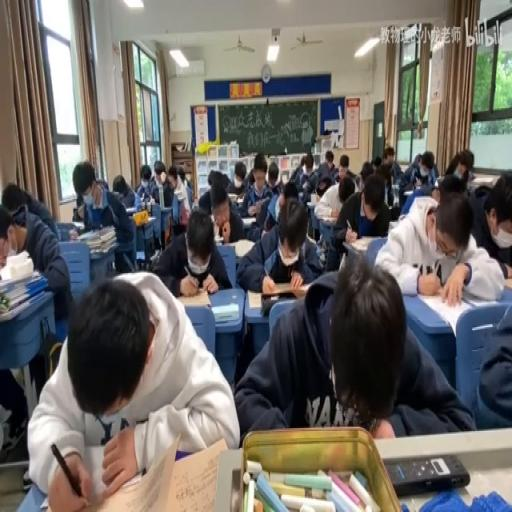calculator: (412, 284, 498, 334), (246, 284, 308, 310), (179, 286, 211, 307), (210, 301, 238, 323), (232, 236, 255, 258), (346, 234, 372, 252), (462, 290, 489, 307), (266, 192, 279, 223), (131, 212, 157, 227), (470, 174, 496, 188), (90, 244, 115, 258), (76, 228, 98, 240), (251, 193, 267, 209), (319, 213, 338, 225), (317, 245, 326, 263), (241, 214, 257, 224), (70, 220, 84, 230), (212, 234, 224, 244), (125, 205, 137, 215), (309, 192, 318, 205), (387, 219, 400, 228), (227, 192, 238, 202), (149, 248, 158, 260), (505, 276, 512, 291), (433, 176, 441, 186), (392, 181, 400, 189), (403, 189, 414, 194)
paper: (27, 270, 236, 509), (234, 253, 470, 441), (374, 185, 504, 306), (0, 192, 69, 337), (235, 194, 322, 292), (72, 161, 137, 273), (326, 170, 390, 268), (194, 174, 246, 248), (0, 365, 30, 457), (397, 148, 438, 212), (150, 161, 182, 243), (374, 145, 398, 206), (314, 151, 339, 196), (445, 150, 474, 186), (134, 164, 155, 202), (336, 152, 355, 185), (298, 165, 314, 202), (281, 179, 298, 202), (253, 154, 266, 180), (338, 181, 354, 202), (176, 164, 189, 189), (358, 161, 373, 182), (112, 174, 126, 196), (74, 193, 85, 219), (266, 165, 278, 188), (167, 165, 178, 189), (234, 168, 245, 186), (350, 174, 361, 190), (206, 170, 216, 186), (430, 186, 440, 202), (246, 168, 254, 185), (299, 155, 307, 171), (372, 156, 382, 168), (414, 154, 422, 168), (467, 168, 474, 182), (384, 155, 394, 164), (326, 158, 332, 166)
person: (384, 452, 470, 494)
